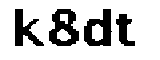8: (47, 4, 80, 50)
d: (83, 8, 113, 48)
k: (10, 6, 45, 48)
t: (114, 13, 139, 50)
